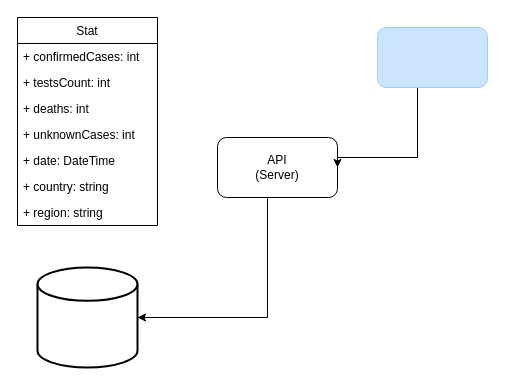
The diagram is 505 pixels wide and 386 high, and some of its shapes have lost their labels. Each missing label, with the centre of its shape:
"DB" belongs at (x=87, y=317).
"Web Application" belongs at (x=432, y=57).
